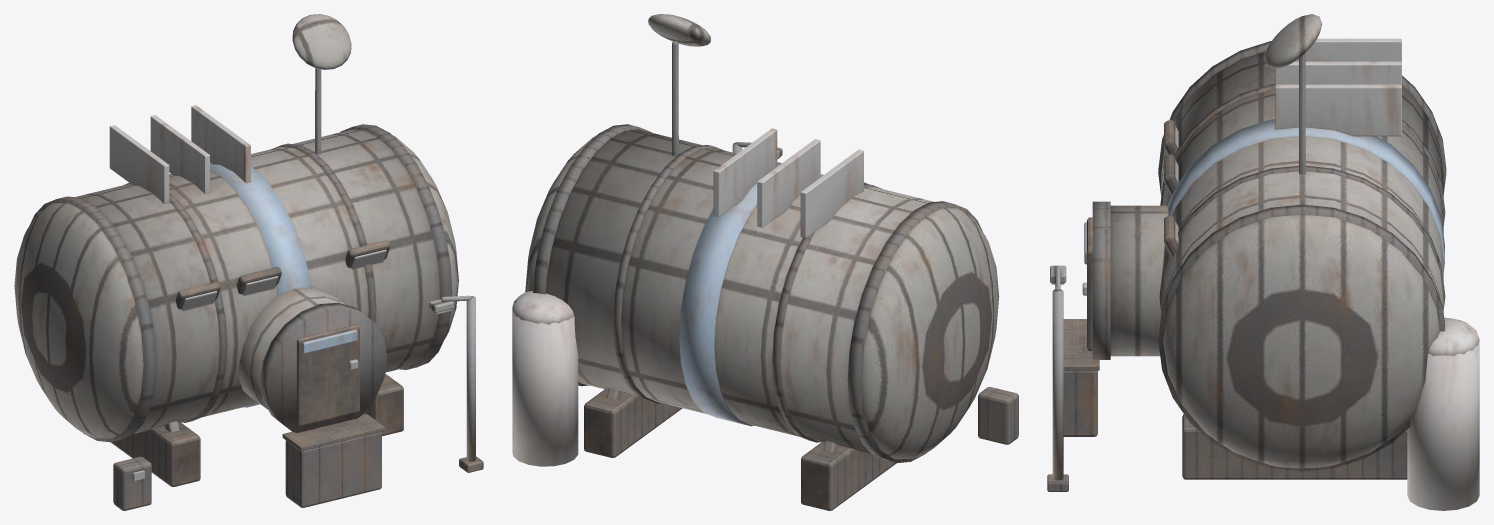
Rendered from house_2.glb.
The picture shows the model from 3 angles, left to right: view 1: azimuth 30°, elevation 25°; view 2: azimuth 150°, elevation 25°; view 3: azimuth 270°, elevation 25°; orthographic projection. The views are drawn at different scales.
Visible parts, largest first — view 1: house_2, Glow; view 2: house_2; view 3: house_2.
Boxes of the visible parts, x1,y1,x2,y2 form: house_2: (14, 14, 483, 510); Glow: (132, 249, 451, 480); house_2: (512, 14, 1018, 510); house_2: (1047, 14, 1479, 510).
Bounding box in the file's own units: 2.79 × 2.71 × 2.39.
3 materials, 1 textured.
